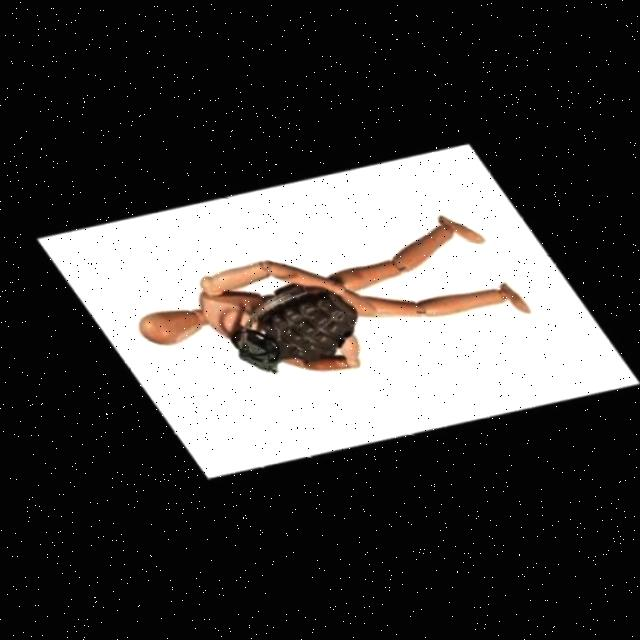grenade: (202, 258, 370, 420)
